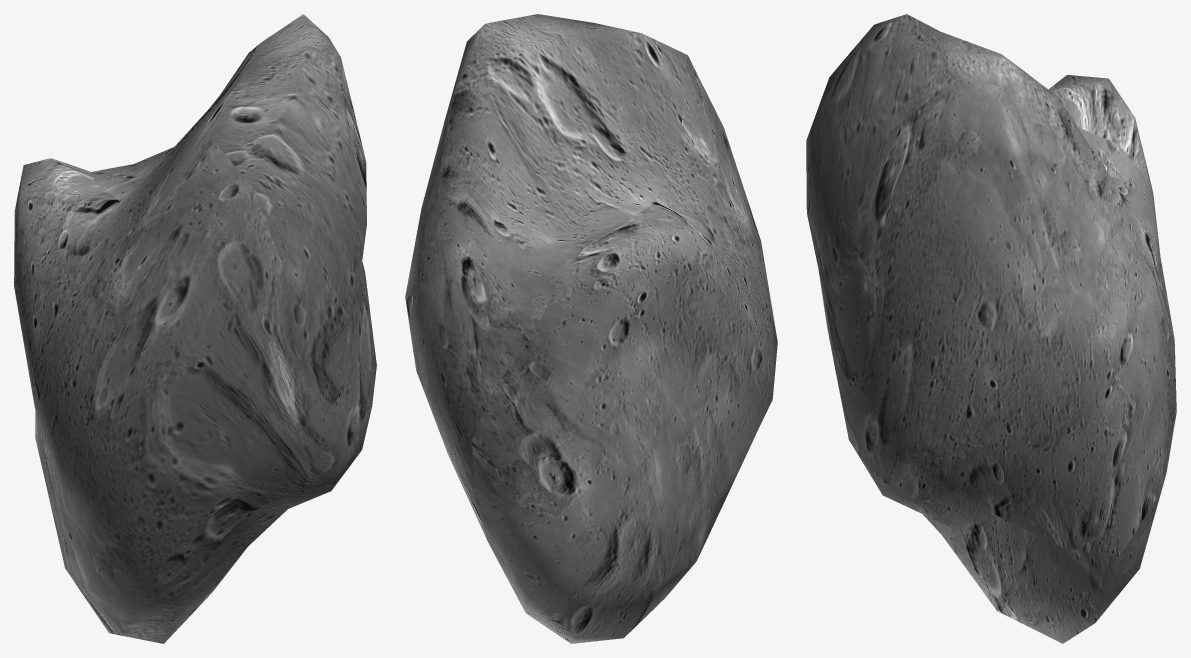
File: asteroid09.FBX
The picture shows the model from 3 angles, left to right: view 1: azimuth 30°, elevation 25°; view 2: azimuth 150°, elevation 25°; view 3: azimuth 270°, elevation 25°; orthographic projection. The views are drawn at different scales.
Parts seen in each view (by area): view 1: Asteroid009; view 2: Asteroid009; view 3: Asteroid009.
Boxes of the visible parts, bbox=[...] form: Asteroid009: bbox=[14, 14, 376, 643]; Asteroid009: bbox=[405, 14, 777, 643]; Asteroid009: bbox=[806, 14, 1176, 643].
Size of the model in its own units: 87.18 by 153 by 79.78.
1 material, 1 textured.
